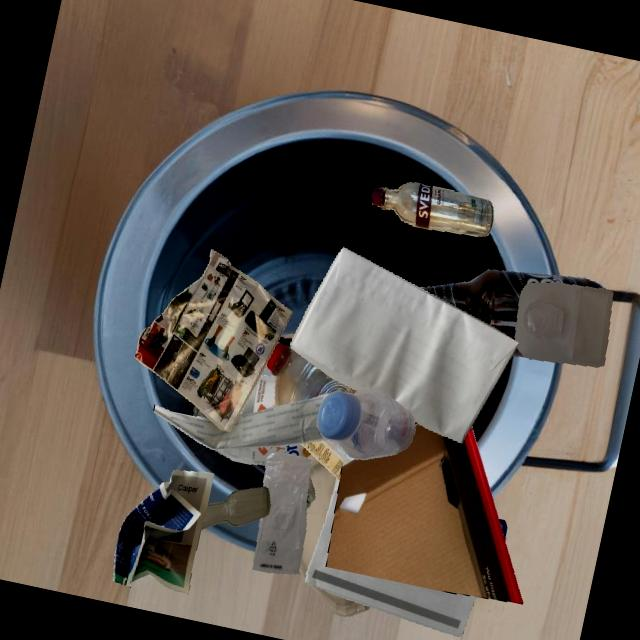cardboard: (326, 423, 522, 603)
glass: (418, 269, 604, 340), (371, 182, 493, 236), (208, 406, 283, 446), (201, 486, 270, 529), (214, 443, 311, 465), (240, 375, 275, 412), (275, 333, 294, 347)
paper: (290, 247, 518, 443), (133, 248, 292, 432), (305, 478, 475, 636), (113, 470, 213, 594), (153, 393, 329, 449), (299, 454, 336, 580), (308, 583, 370, 616)
plastic: (514, 282, 613, 367), (252, 452, 311, 574), (316, 388, 415, 459), (266, 342, 358, 406), (300, 439, 355, 481), (306, 476, 315, 508), (498, 518, 506, 541)
